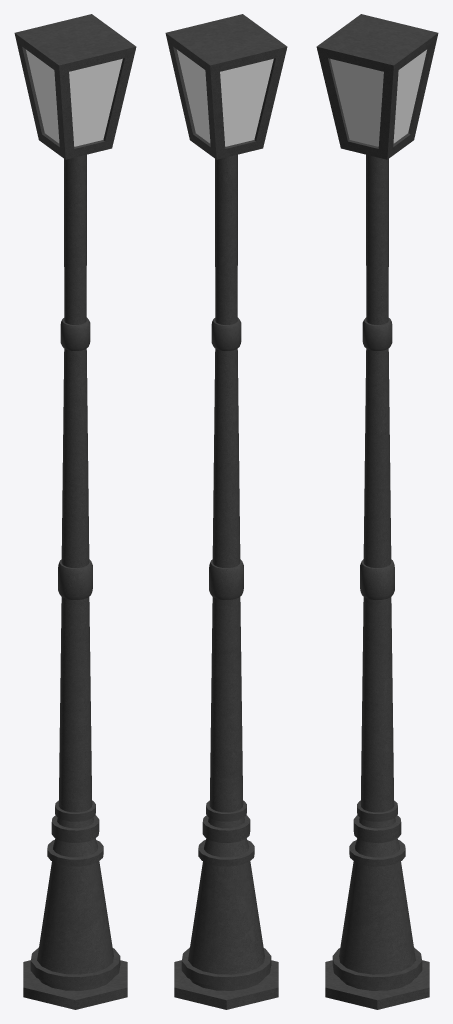
The model's file is lamp-post.obj.
3 renders of one model, left to right at view 1: azimuth 30°, elevation 25°; view 2: azimuth 210°, elevation 25°; view 3: azimuth 330°, elevation 25°, orthographic.
Parts seen in each view (by area): view 1: lamp-post; view 2: lamp-post; view 3: lamp-post.
Boxes of the visible parts, x1=… form: lamp-post: x1=14, y1=14, x2=136, y2=1009; lamp-post: x1=165, y1=14, x2=287, y2=1009; lamp-post: x1=316, y1=14, x2=438, y2=1009.
Bounding box in the file's own units: 0.2307 × 1.99 × 0.1998.
1 material, 1 textured.
